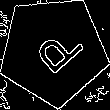P_SW: (23, 20, 84, 81)
